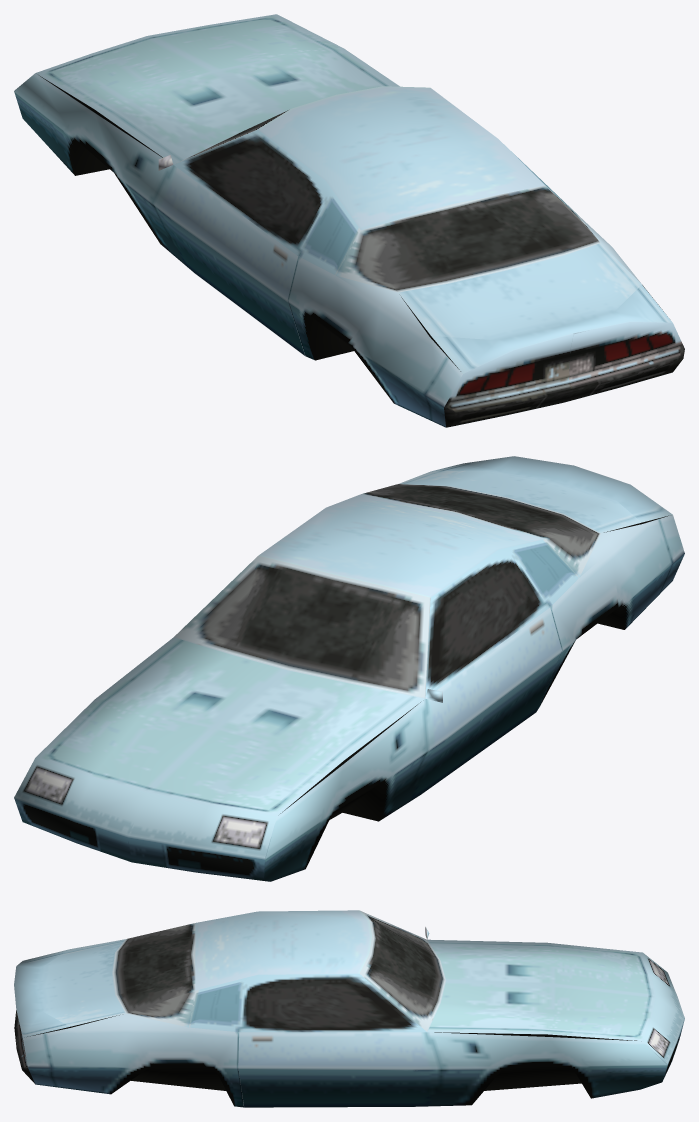
The model's file is Firebird_high.obj.
The picture shows the model from 3 angles, top to bottom: view 1: azimuth 30°, elevation 25°; view 2: azimuth 150°, elevation 25°; view 3: azimuth 270°, elevation 25°; orthographic projection. The views are drawn at different scales.
Visible parts, largest first — view 1: firebird_high_lev_model_1_set65_id13; view 2: firebird_high_lev_model_1_set65_id13; view 3: firebird_high_lev_model_1_set65_id13.
Part boxes in pixels (bbox=[...]): firebird_high_lev_model_1_set65_id13: bbox=[14, 14, 684, 427]; firebird_high_lev_model_1_set65_id13: bbox=[14, 456, 684, 881]; firebird_high_lev_model_1_set65_id13: bbox=[14, 910, 684, 1107].
Size of the model in its own units: 264 by 154 by 727.
1 material, 1 textured.
